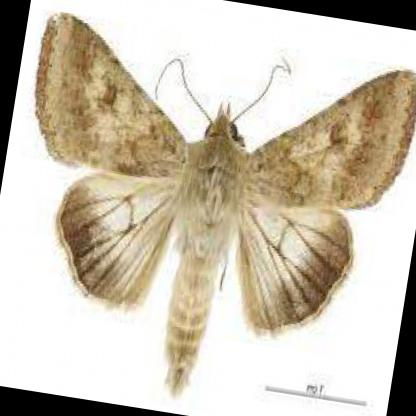helicoverpa: (33, 11, 416, 398)
